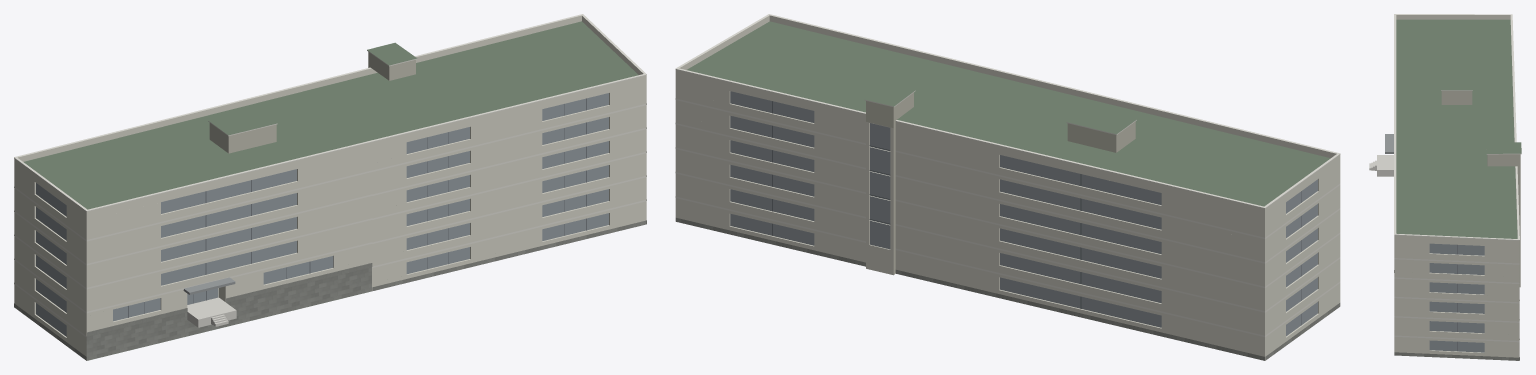
The picture shows the model from 3 angles, left to right: view 1: azimuth 30°, elevation 25°; view 2: azimuth 150°, elevation 25°; view 3: azimuth 270°, elevation 25°; orthographic projection. The views are drawn at different scales.
Visible parts, largest first — view 1: b22__wall, b22__roof, b22__glass, b22__trim, b22__base, b22__parapet, b22__wall2, b22__entranceStair, b22__frame; view 2: b22__wall, b22__roof, b22__glass, b22__trim, b22__parapet, b22__base, b22__wall2; view 3: b22__roof, b22__wall, b22__glass, b22__trim, b22__parapet, b22__wall2, b22__base, b22__entranceStair, b22__canopy.
Part boxes in pixels (x1,y1,x2,y2): b22__wall: [14, 80, 646, 356]; b22__roof: [23, 21, 638, 360]; b22__glass: [36, 93, 608, 336]; b22__trim: [14, 14, 646, 336]; b22__base: [14, 220, 646, 360]; b22__parapet: [14, 15, 646, 216]; b22__wall2: [209, 52, 415, 153]; b22__entranceStair: [187, 297, 236, 327]; b22__frame: [128, 98, 586, 317]; b22__wall: [675, 74, 1340, 360]; b22__roof: [687, 21, 1330, 206]; b22__glass: [730, 91, 1317, 336]; b22__trim: [675, 14, 1340, 337]; b22__parapet: [675, 15, 1340, 213]; b22__base: [675, 218, 1340, 360]; b22__wall2: [866, 92, 1135, 274]; b22__roof: [1396, 19, 1521, 238]; b22__wall: [1394, 239, 1519, 357]; b22__glass: [1429, 243, 1484, 352]; b22__trim: [1394, 14, 1521, 342]; b22__parapet: [1394, 15, 1519, 244]; b22__wall2: [1441, 91, 1520, 287]; b22__base: [1394, 270, 1519, 360]; b22__entranceStair: [1369, 155, 1393, 176]; b22__canopy: [1385, 134, 1393, 153].
Size of the model in its own units: 90.1 by 24.89 by 25.66.
Materials: 11 (1 with a texture image).
